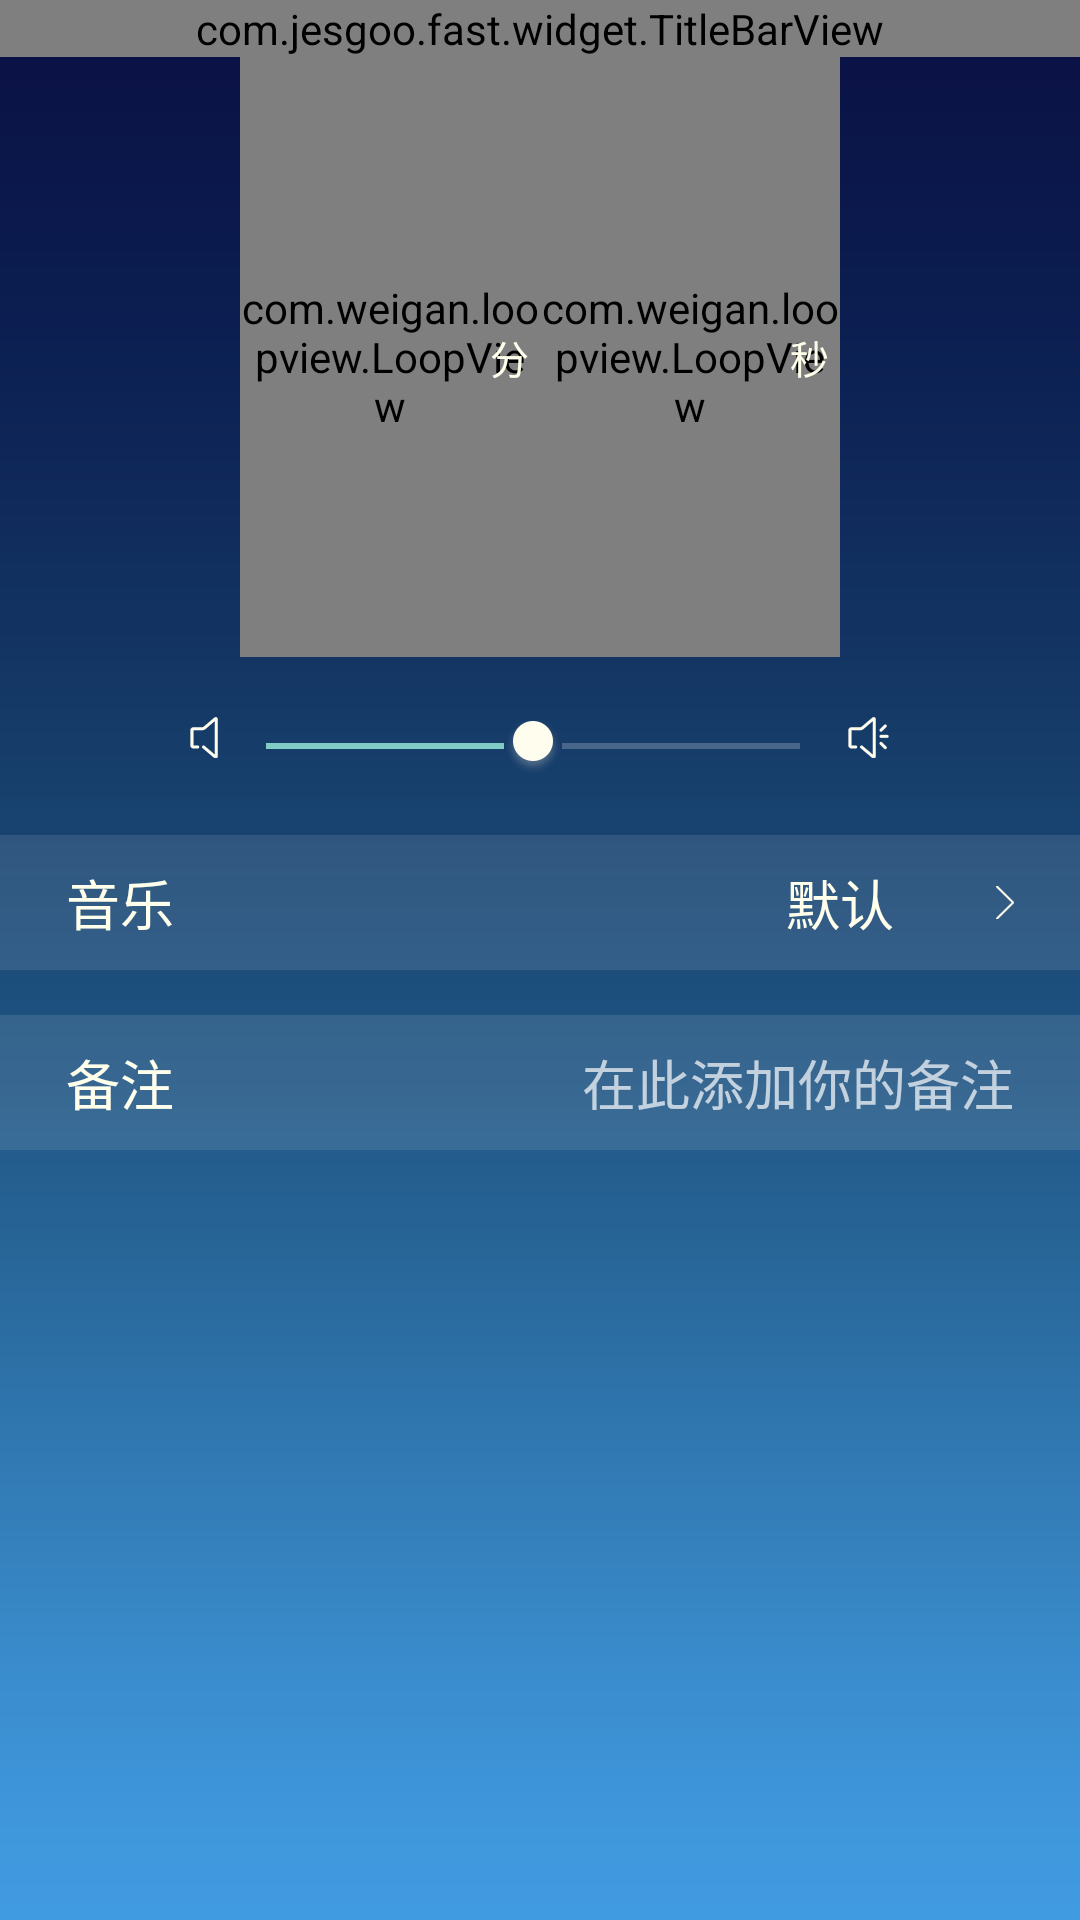

Icon bounding boxes for this 1080*1920 phone screenshot, format (x1, y1, x2, y2):
voice: (190, 717, 218, 758)
voice max: (848, 717, 889, 758)
